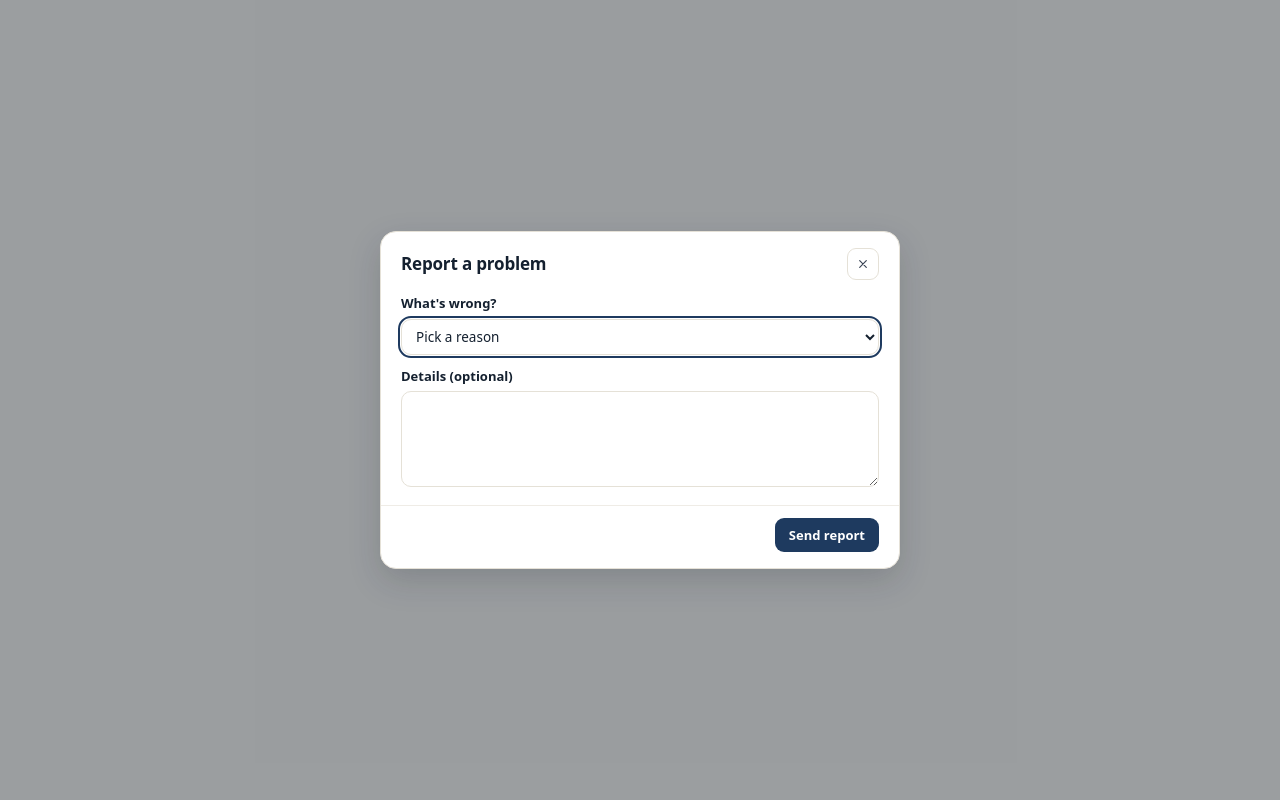
Scenario: ReportModal › needs a reason, then sends the report
The width and height of the screenshot is (1280, 800).
Click the button "Send report" at (827, 535), box left=775, top=518, right=879, bottom=552
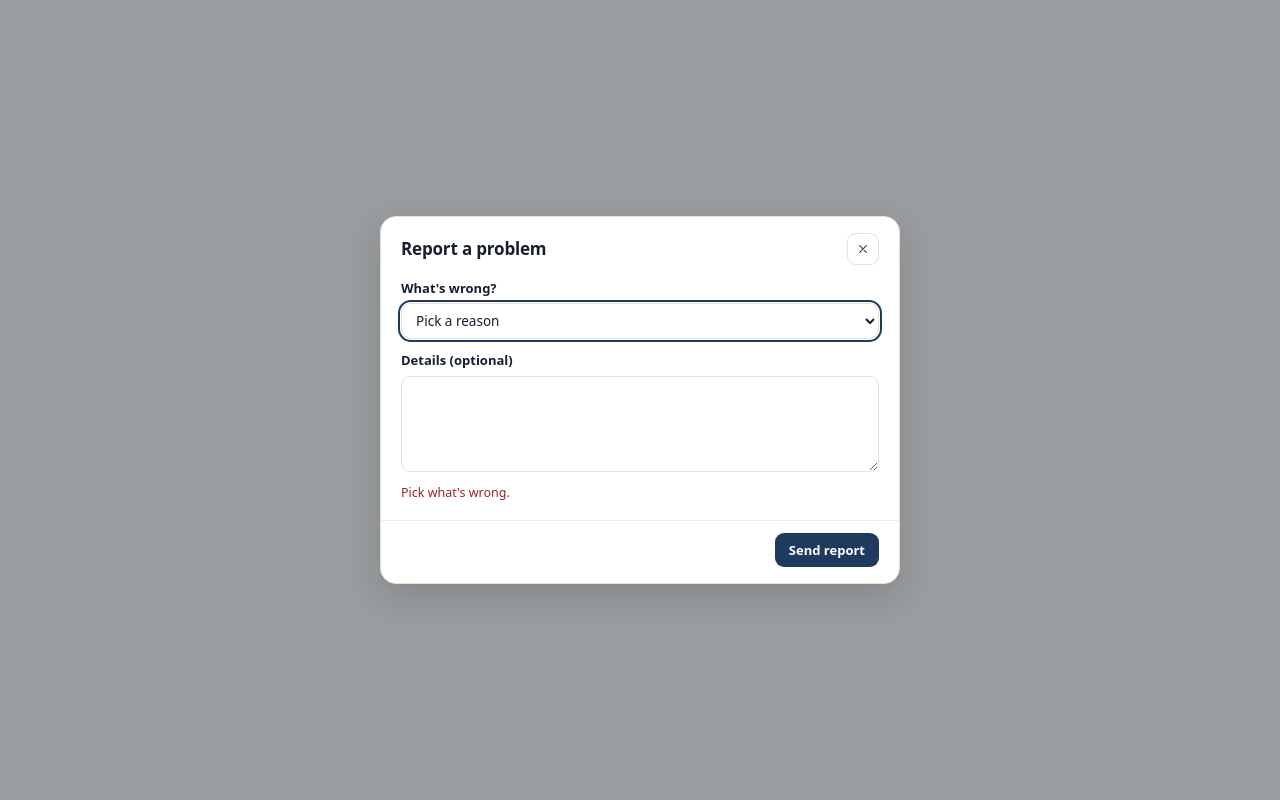
Now the message reads "Pick what's wrong.", box left=401, top=484, right=510, bottom=501
Select "The deadline is wrong" in the dropdown labelled "What's wrong?" at (640, 321), box left=401, top=303, right=879, bottom=339
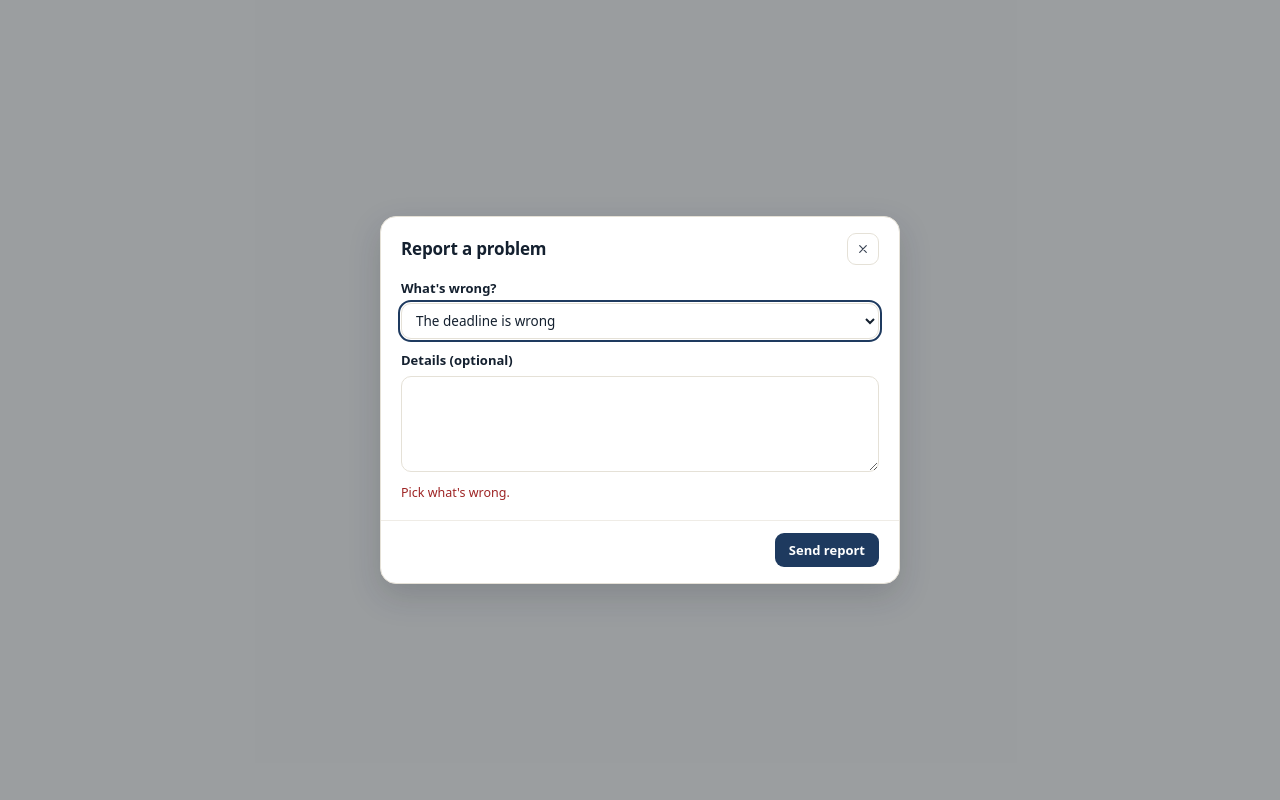
Type "It says Nov 1 now" into the text box labelled "Details (optional)" at (640, 424), box left=401, top=376, right=879, bottom=472
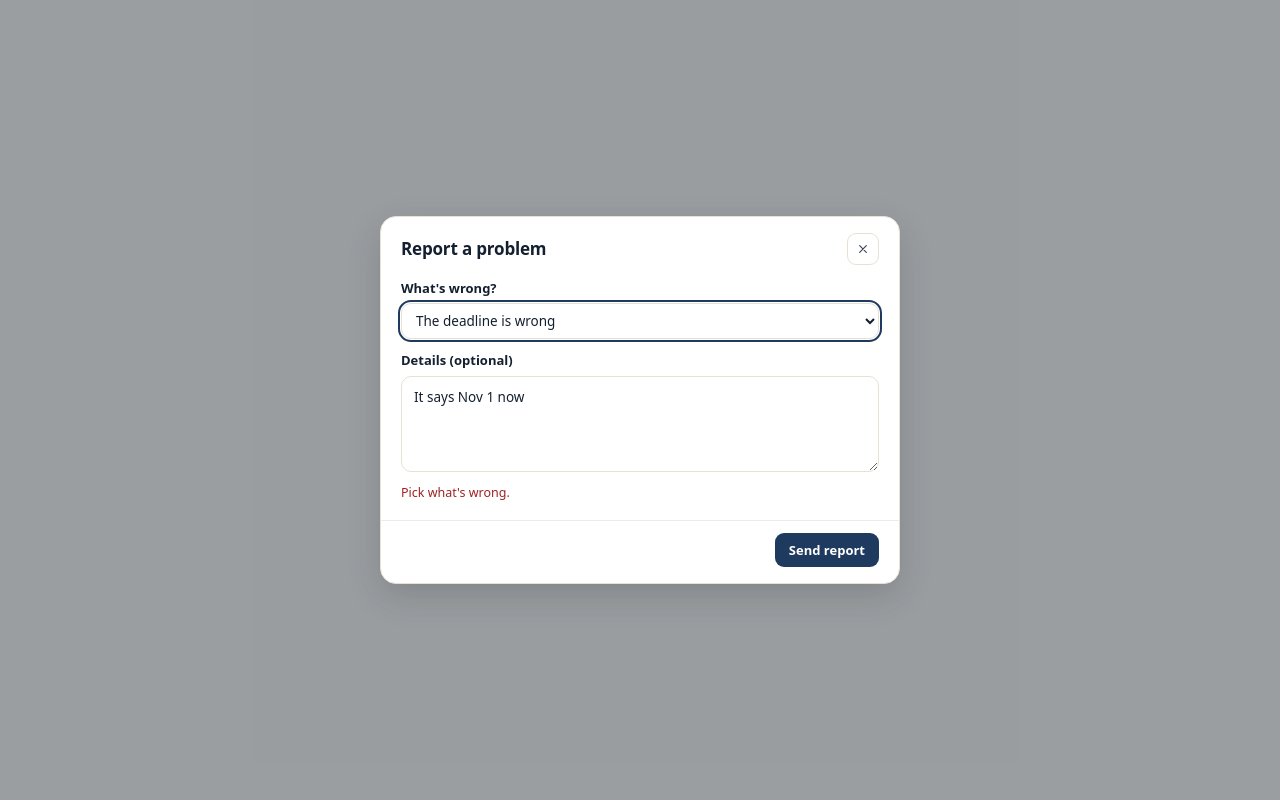
Click the button "Send report" at (827, 550), box left=775, top=533, right=879, bottom=567
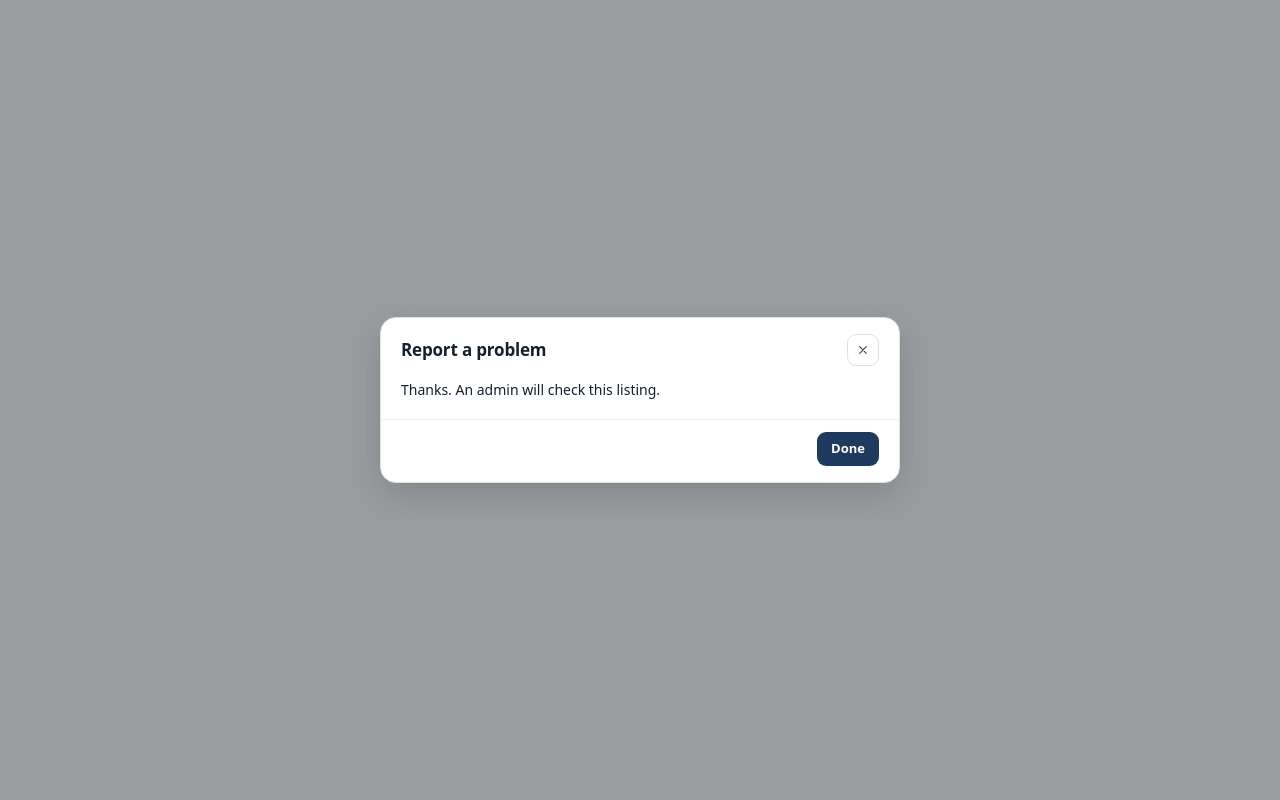
Now the text "Thanks. An admin will check this listing." is shown, box left=401, top=380, right=660, bottom=399
